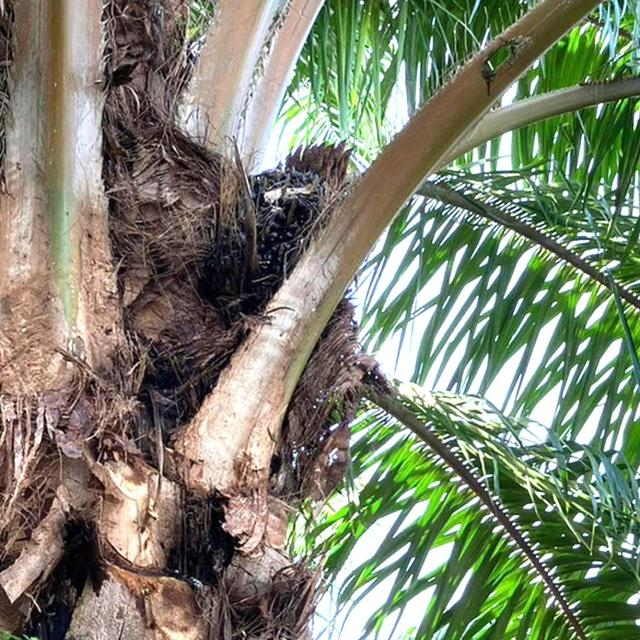unripe: (238, 152, 329, 288)
